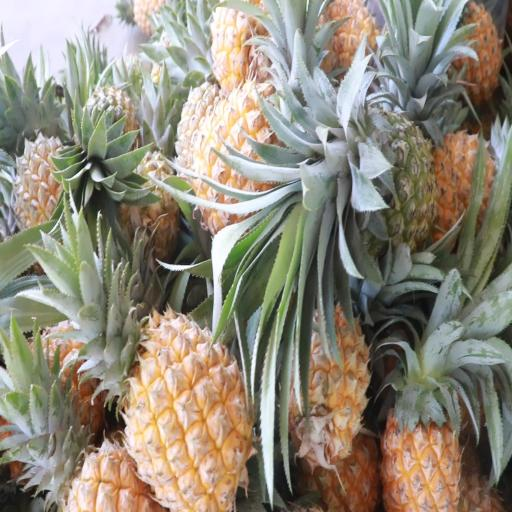Pineapple - v8 v1: (102, 295, 254, 510), (192, 76, 333, 235), (379, 295, 469, 512), (290, 296, 375, 470)
